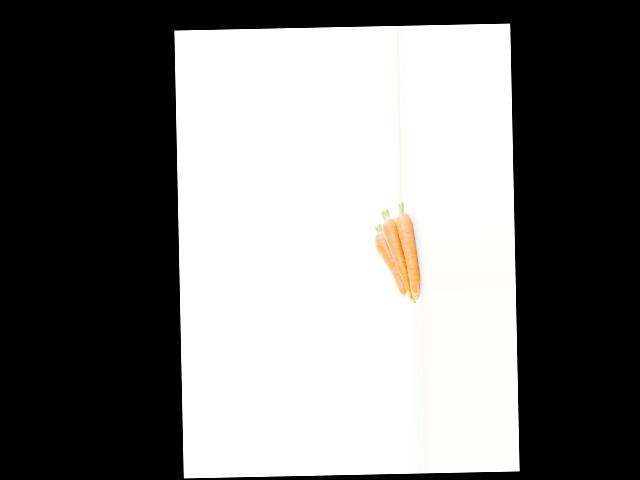carrot: (398, 207, 419, 299)
